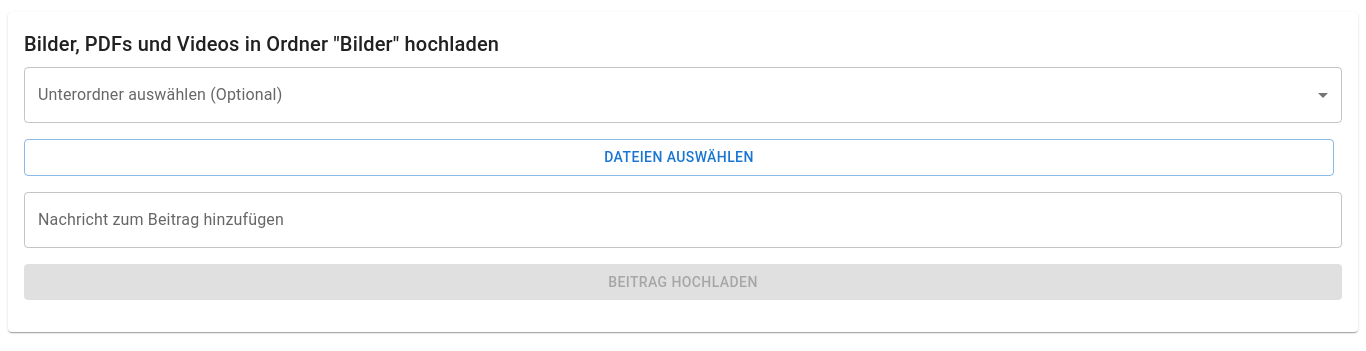
Scenario: ImageUpload component (unit) › fetches subfolders when online and displays them
Click the dropdown named "Unterordner auswählen". click: (683, 95)
box: [24, 67, 1342, 123]
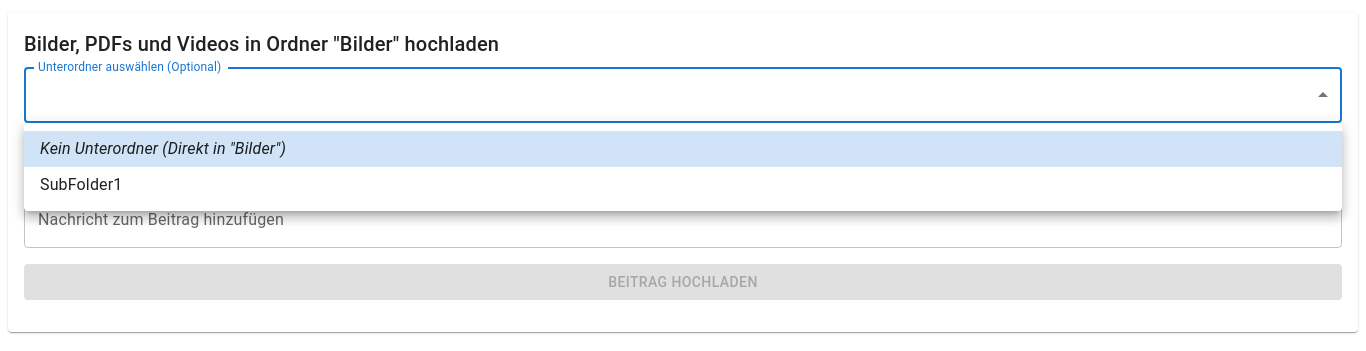
Check: the option "SubFolder1" is shown, box [40, 175, 122, 194]
